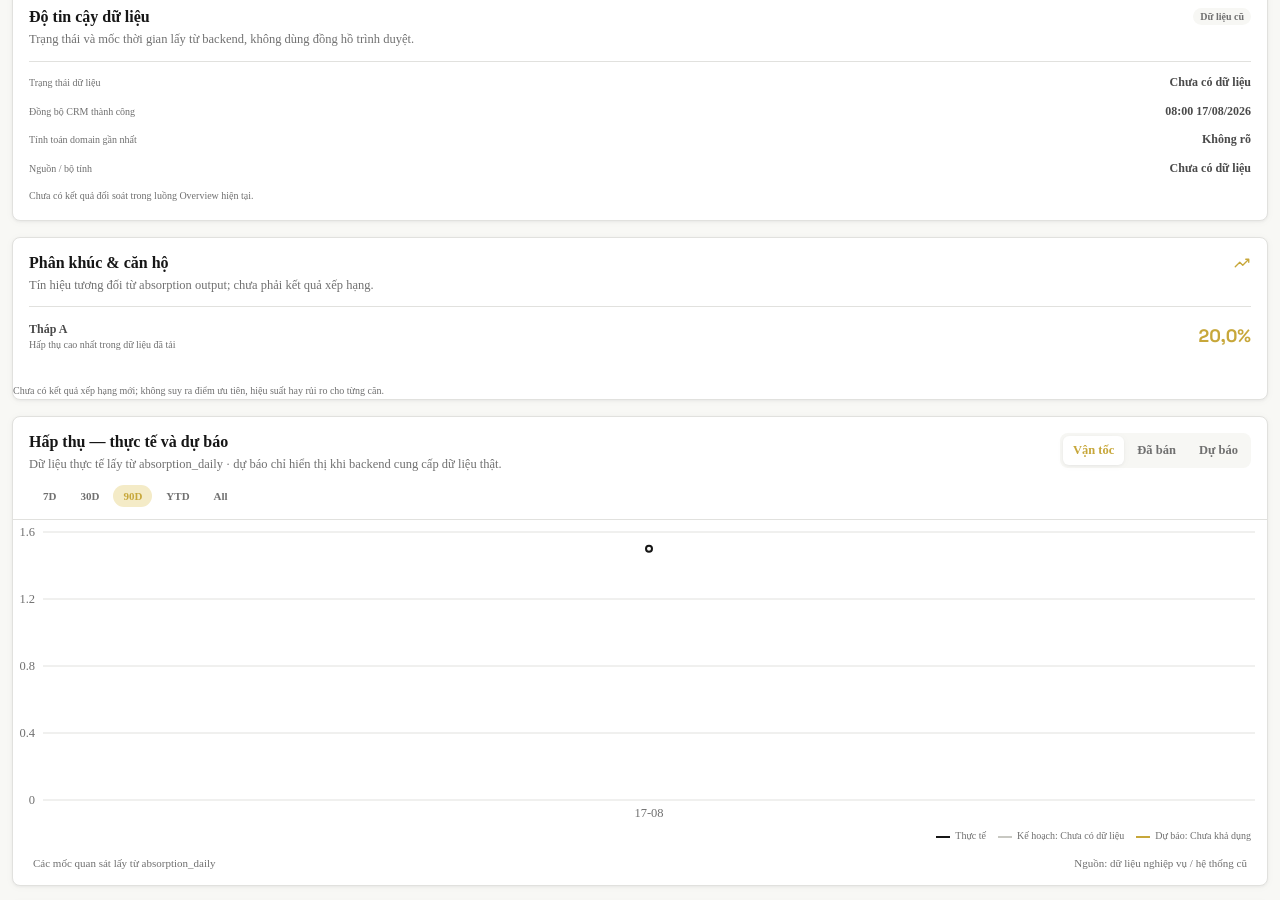
Test case: OverviewDashboard › switches to the forecast tab without fabricating a forecast series
This screenshot has width=1280, height=900.
(page scrolled)
Step 1. Click the tab "Dự báo" → (1218, 450), box left=1189, top=436, right=1248, bottom=465
(page scrolled)
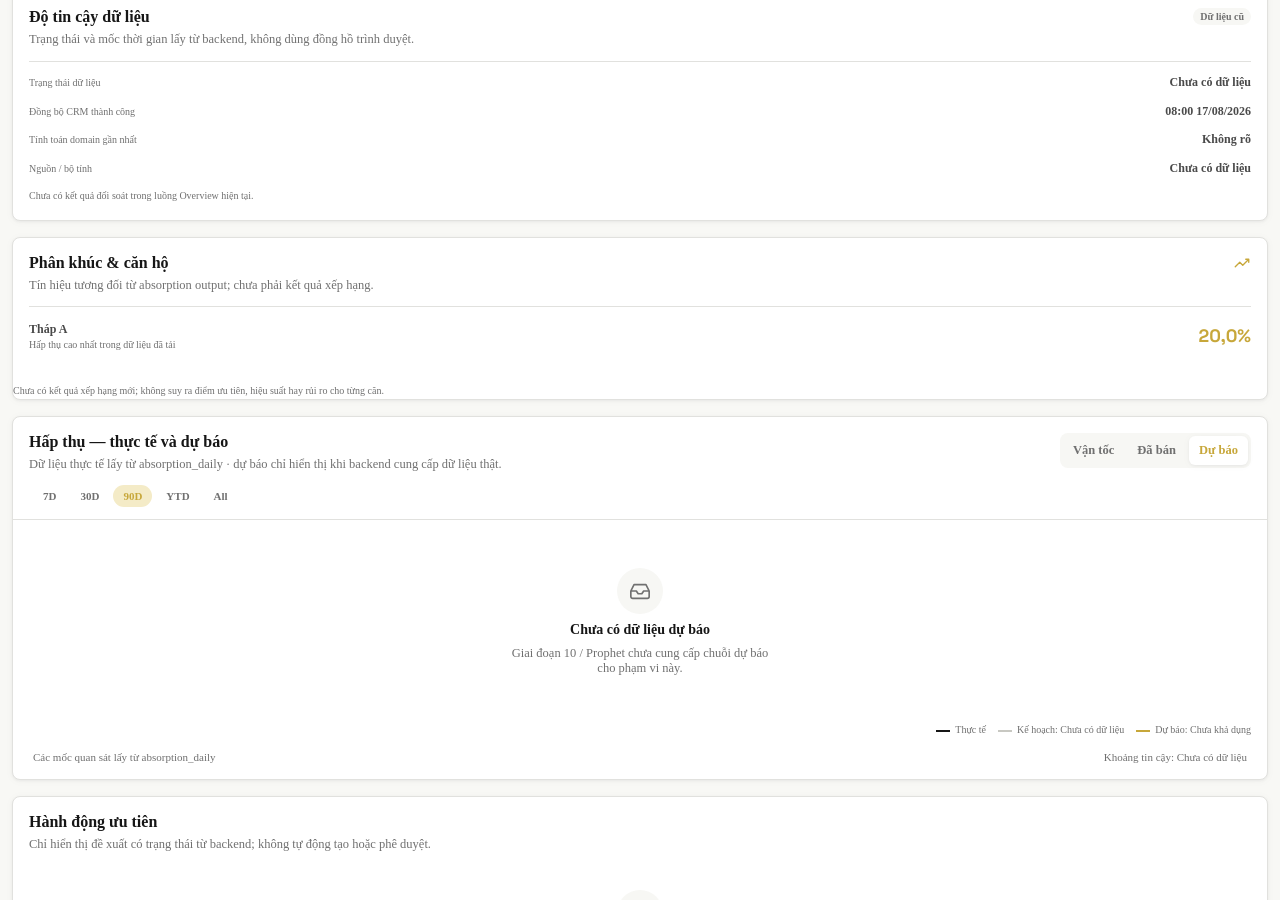
Expected: the text "Chưa có dữ liệu dự báo" is shown, left=570, top=622, right=710, bottom=638
Expected: the text "Giai đoạn 10" is shown, left=512, top=646, right=768, bottom=675
